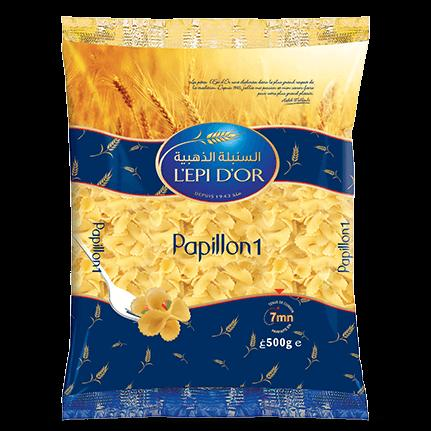Papillon: (58, 22, 371, 419)
